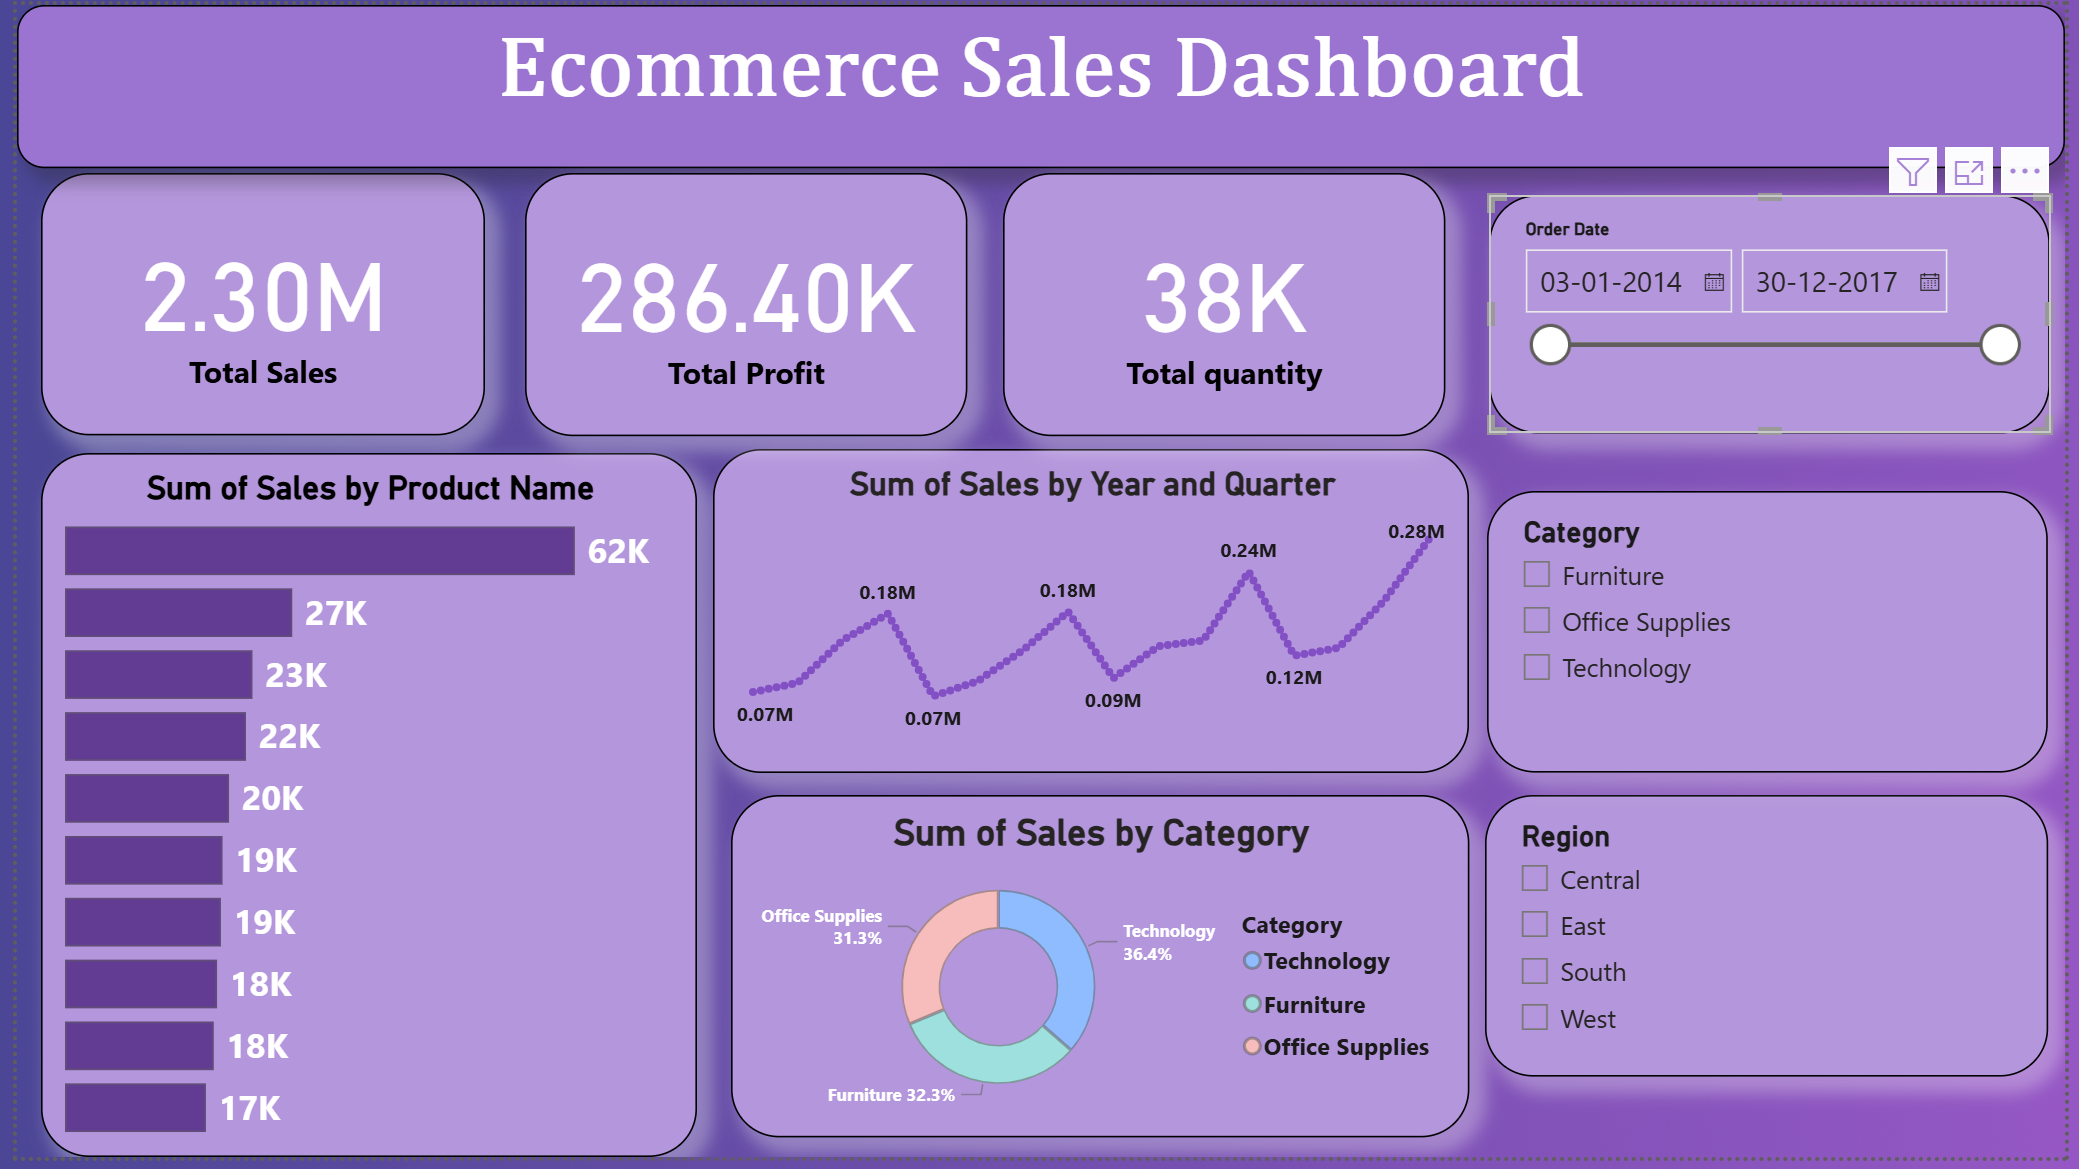

This screenshot's page, from the dashboard's own definition file:
{"tool":"powerbi","page":{"name":"Page 1","canvas":[1280,720],"ordinal":0},"visuals":[{"type":"card","fields":{"Values":["Dataset.Total Sales"]},"box":[15,105,277.5,163.8],"z":2000},{"type":"clusteredBarChart","fields":{"Category":["Dataset.Product Name"],"Y":["Sum(Dataset.Sales)"]},"box":[15,280,410,440],"z":3000},{"type":"lineChart","fields":{"Category":["Dataset.Order Date.Variation.Date Hierarchy.Year","Dataset.Order Date.Variation.Date Hierarchy.Quarter","Dataset.Order Date.Variation.Date Hierarchy.Month","Dataset.Order Date.Variation.Date Hierarchy.Day"],"Y":["Sum(Dataset.Sales)"]},"box":[435,277.5,472.5,202.5],"z":4000},{"type":"donutChart","fields":{"Category":["Dataset.Category"],"Y":["Sum(Dataset.Sales)"]},"box":[446.2,493.8,461.2,213.8],"z":4001},{"type":"slicer","fields":{"Values":["Dataset.Region"]},"box":[917.9,493.4,351.9,175.9],"z":4002},{"type":"slicer","fields":{"Values":["Dataset.Category"]},"box":[919.2,303.4,350.6,175.9],"z":4003},{"type":"slicer","fields":{"Values":["Dataset.Order Date"]},"box":[920.5,118.6,350.6,149.2],"z":4004},{"type":"textbox","box":[0,0,1280,102],"z":4006},{"type":"card","fields":{"Values":["Dataset.Total Profit"]},"box":[317.5,104.5,276.7,164.5],"z":4007},{"type":"card","fields":{"Values":["Dataset.Total quantity"]},"box":[615.8,104.5,276.7,164.5],"z":4008}]}

Visuals, with their boxes in screenshot pixels (x1, y1, x2, y2), scaled from the page's 1280x720 canvas onto the 2079x1169 screenshot:
card - Dataset.Total Sales: (x1=24, y1=170, x2=475, y2=436)
clusteredBarChart - Dataset.Product Name x Sum(Dataset.Sales): (x1=24, y1=455, x2=690, y2=1168)
lineChart - Dataset.Order Date.Variation.Date Hierarchy.Year x Dataset.Order Date.Variation.Date Hierarchy.Quarter: (x1=707, y1=451, x2=1474, y2=779)
donutChart - Dataset.Category x Sum(Dataset.Sales): (x1=725, y1=802, x2=1474, y2=1149)
slicer - Dataset.Region: (x1=1491, y1=801, x2=2062, y2=1087)
slicer - Dataset.Category: (x1=1493, y1=493, x2=2062, y2=778)
slicer - Dataset.Order Date: (x1=1495, y1=193, x2=2065, y2=435)
textbox: (x1=0, y1=0, x2=2078, y2=166)
card - Dataset.Total Profit: (x1=516, y1=170, x2=965, y2=437)
card - Dataset.Total quantity: (x1=1000, y1=170, x2=1450, y2=437)
